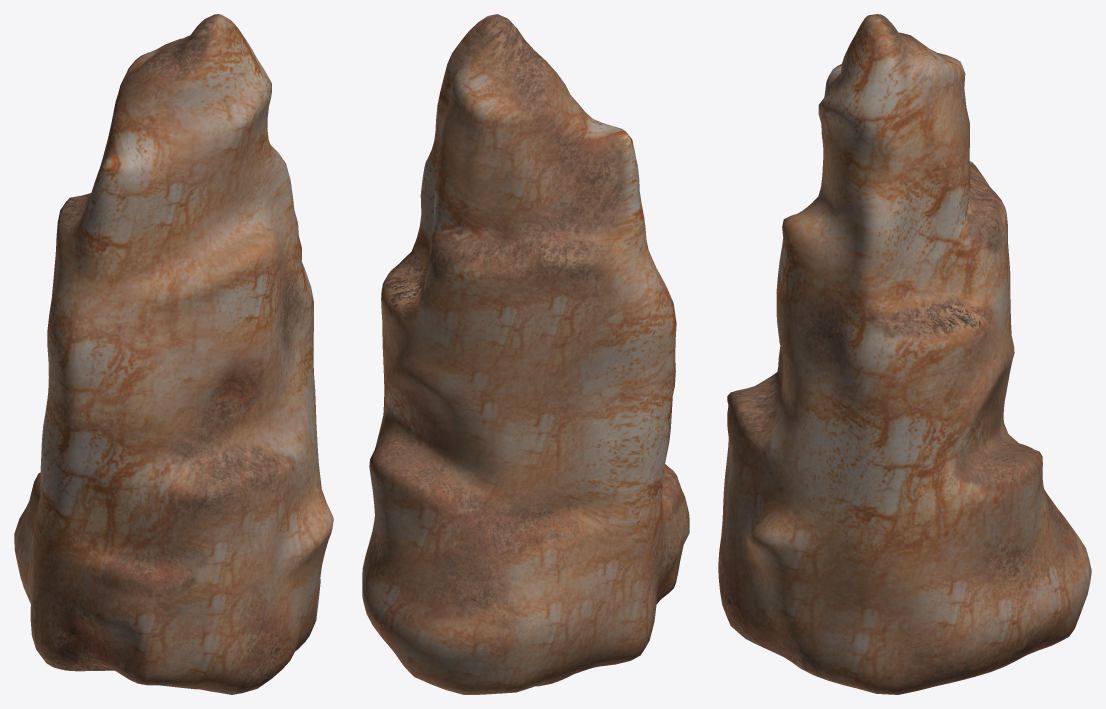
Rendered from rockBig02.fbx.
The picture shows the model from 3 angles, left to right: view 1: azimuth 30°, elevation 25°; view 2: azimuth 150°, elevation 25°; view 3: azimuth 270°, elevation 25°; orthographic projection. The views are drawn at different scales.
Visible parts, largest first — view 1: rockBig02; view 2: rockBig02; view 3: rockBig02.
Boxes of the visible parts, x1,y1,x2,y2 form: rockBig02: [14, 14, 333, 694]; rockBig02: [362, 14, 689, 694]; rockBig02: [718, 14, 1091, 694].
Bounding box in the file's own units: 2.35 × 5.37 × 2.78.
Materials: 1 (1 with a texture image).
